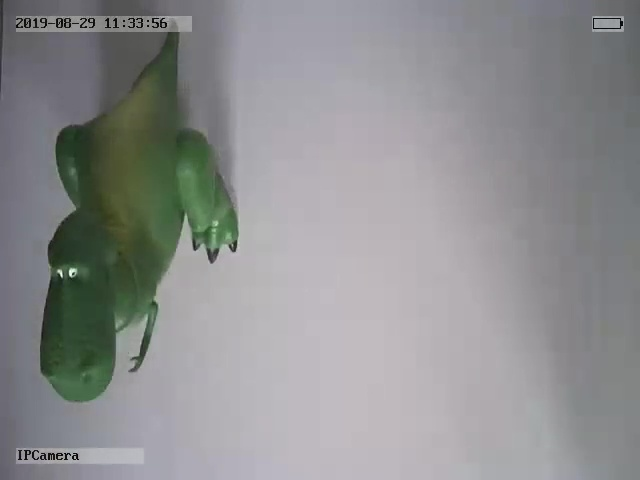rex: (39, 33, 239, 403)
